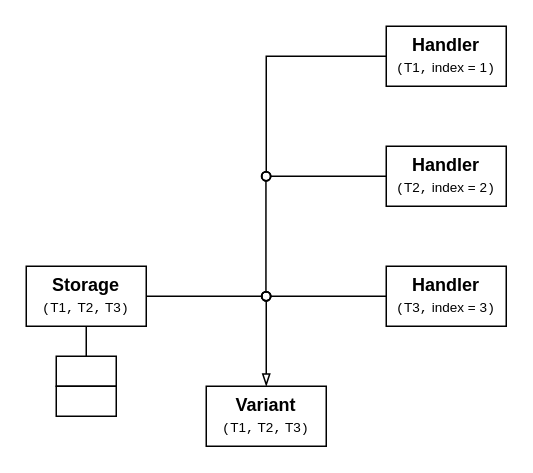
This 533x473 diagram has some shape labels left out. Here are the shapes that lost their labels. From the top down, the centre of each, then its label:
point (85, 370): array
point (85, 400): index
